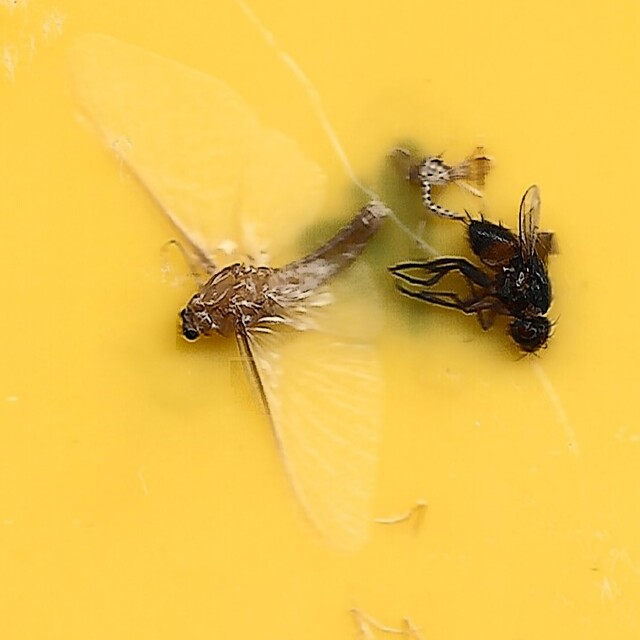Brachycera: (388, 184, 562, 365)
Ephemeroptera: (78, 87, 392, 553)
Nematocera: (417, 152, 477, 227)
